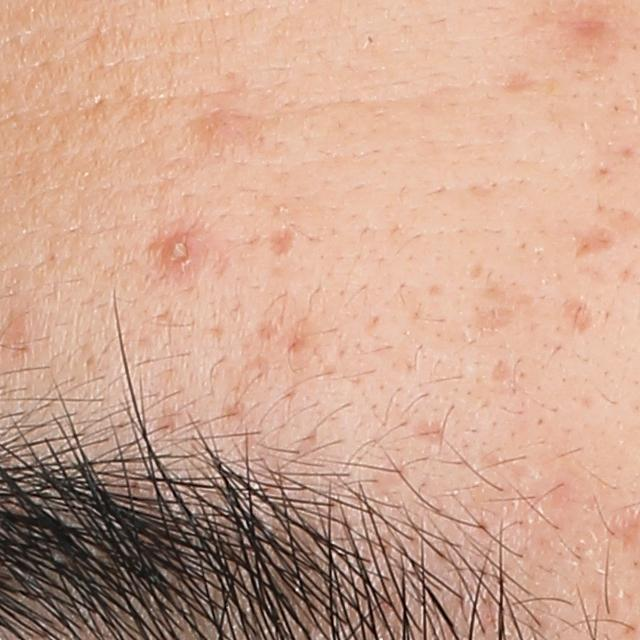atrophic_scar: (568, 221, 624, 266), (469, 301, 522, 345), (559, 292, 597, 337), (265, 223, 301, 261), (413, 419, 447, 448), (492, 358, 516, 384)
pustule: (155, 227, 209, 288)
